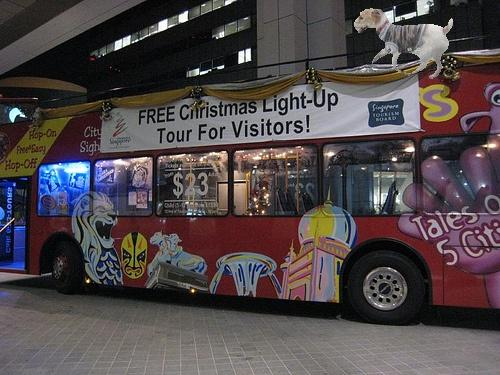tampered: (355, 9, 453, 79)
